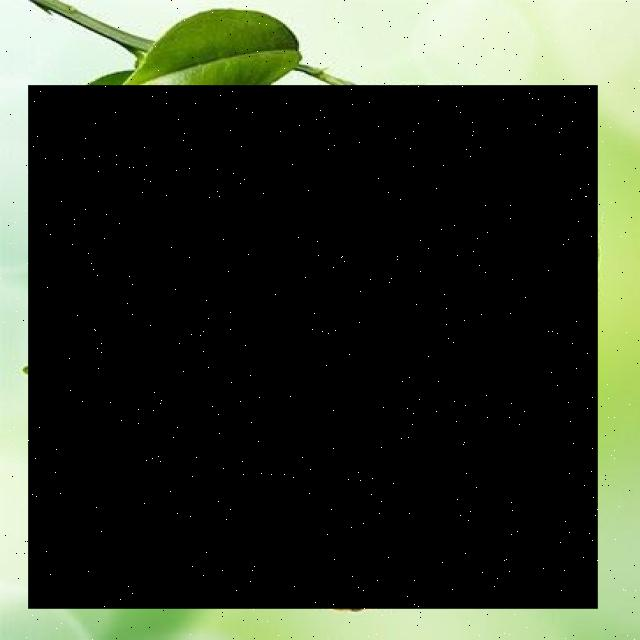Lemon: (28, 85, 598, 609), (348, 85, 396, 131), (385, 85, 392, 88)
